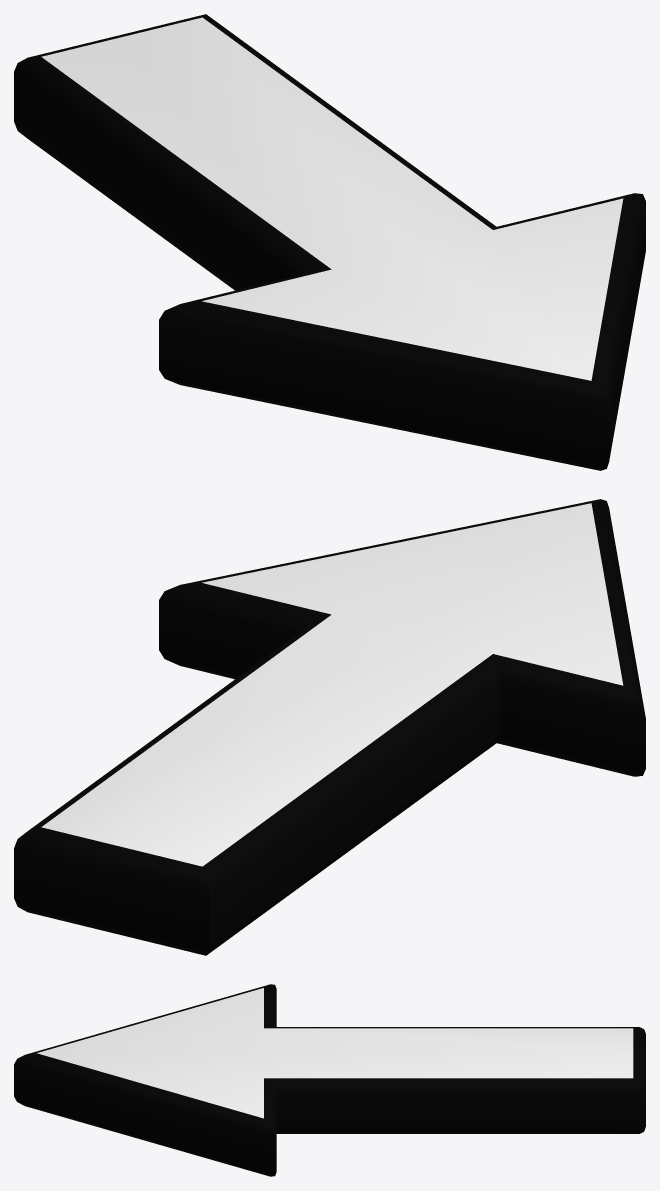
The model's file is Forward Arrow.glb.
The picture shows the model from 3 angles, top to bottom: view 1: azimuth 30°, elevation 25°; view 2: azimuth 150°, elevation 25°; view 3: azimuth 270°, elevation 25°; orthographic projection. The views are drawn at different scales.
Visible parts, largest first — view 1: Forward Arrow; view 2: Forward Arrow; view 3: Forward Arrow.
Boxes of the visible parts, x1,y1,x2,y2 form: Forward Arrow: (14, 14, 645, 470); Forward Arrow: (14, 499, 645, 955); Forward Arrow: (14, 984, 645, 1176).
Size of the model in its own units: 0.5655 by 0.0953 by 1.
1 material, 1 textured.
